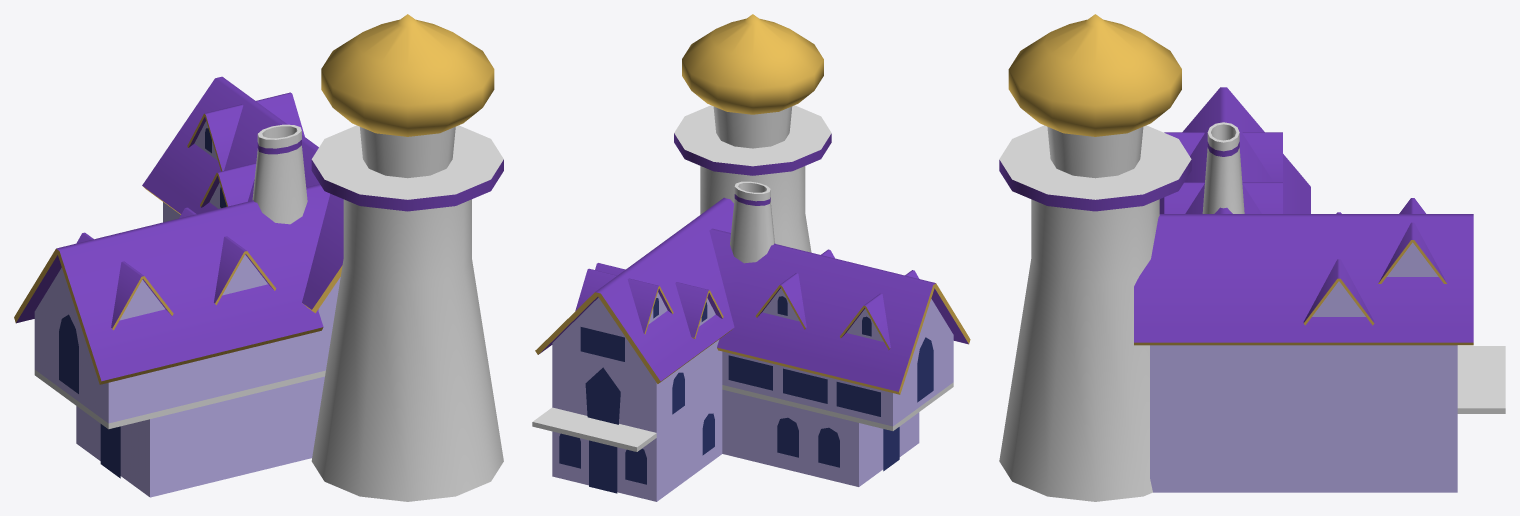
Rendered from Inn.fbx.
The picture shows the model from 3 angles, left to right: view 1: azimuth 30°, elevation 25°; view 2: azimuth 150°, elevation 25°; view 3: azimuth 270°, elevation 25°; orthographic projection. The views are drawn at different scales.
Visible parts, largest first — view 1: Inn, Сhimney; view 2: Inn, Сhimney; view 3: Inn, Сhimney.
Boxes of the visible parts, box(x1,y1,x2,y2) form: Inn: box(14, 14, 503, 501); Сhimney: box(252, 124, 307, 224); Inn: box(532, 14, 970, 501); Сhimney: box(730, 181, 774, 263); Inn: box(999, 14, 1505, 501); Сhimney: box(1202, 122, 1244, 213).
Bounding box in the file's own units: 1330 × 1540 × 1580.
